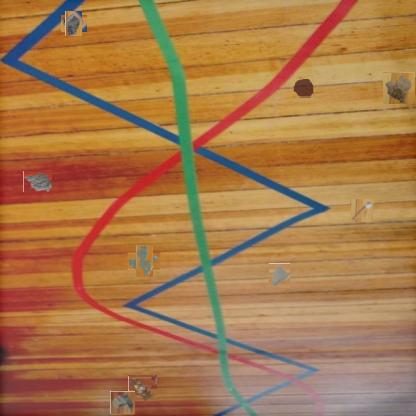dirty: (383, 72, 415, 104), (128, 376, 157, 402), (23, 170, 52, 192), (110, 390, 134, 415), (268, 263, 290, 288), (351, 198, 373, 221), (63, 13, 85, 34)
liquid: (132, 249, 157, 274), (293, 80, 313, 98)
